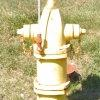a fire hydrant: (23, 4, 85, 94)
